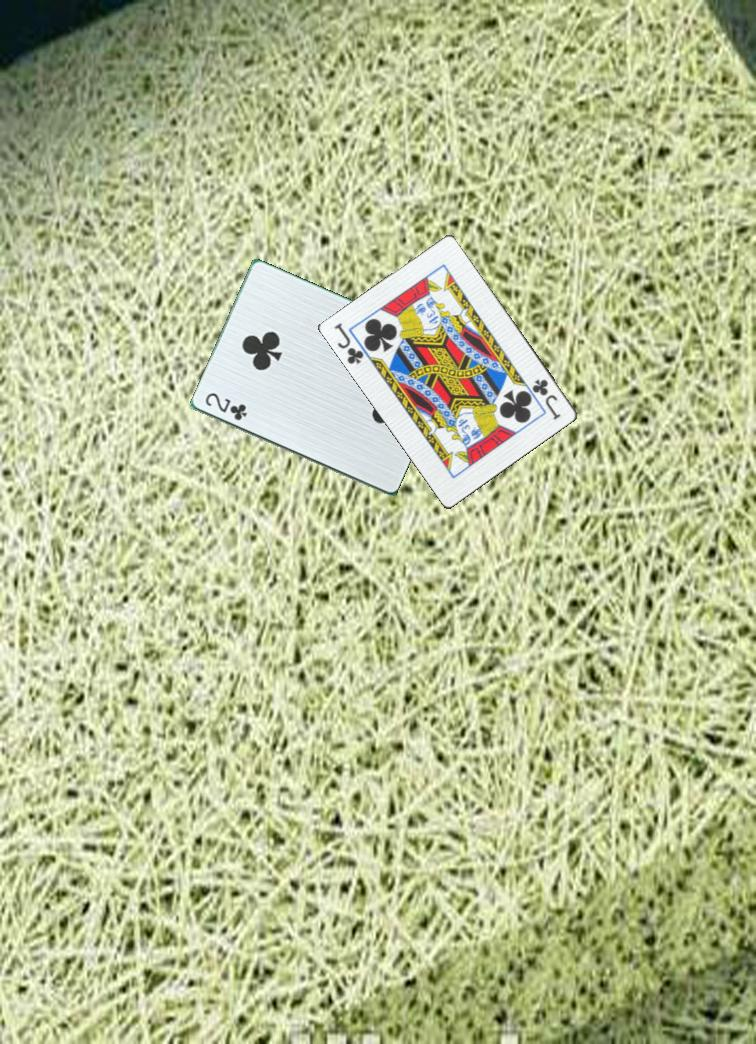2c: (201, 389, 250, 424)
jc: (331, 319, 367, 367), (529, 376, 564, 423)
